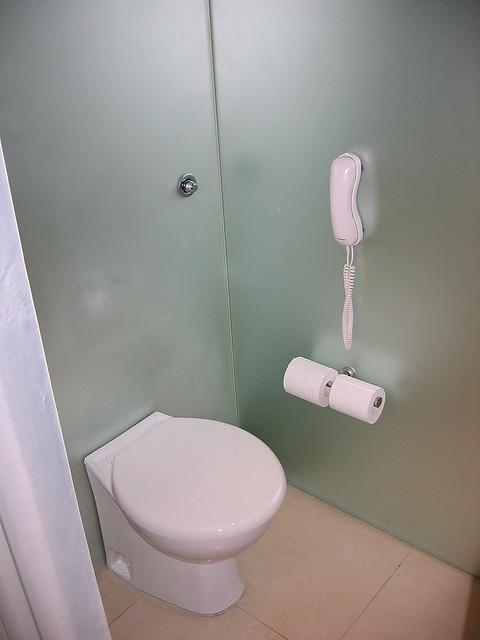Sanitario: (63, 406, 315, 620)
